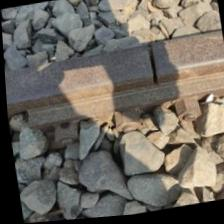person: (118, 35, 187, 100)
